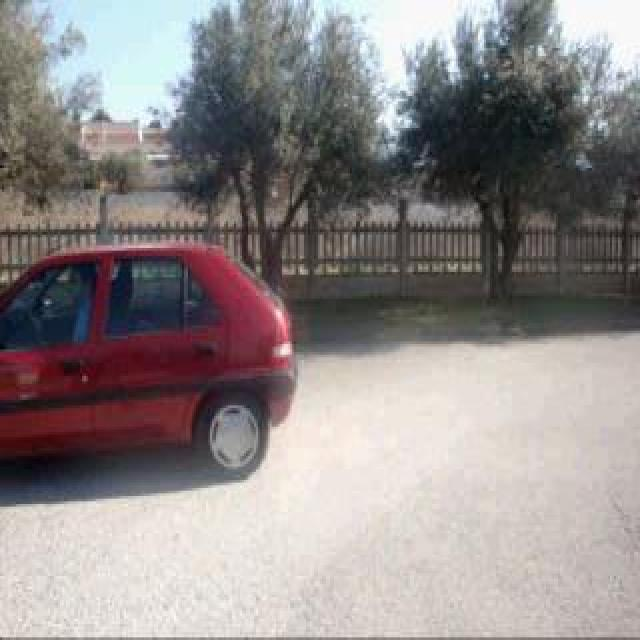other: (3, 226, 310, 490)
